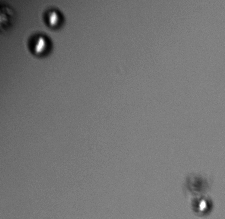Dead Cell: (187, 173, 209, 194), (1, 2, 16, 31)
Living Cell: (25, 31, 55, 58), (41, 5, 67, 31), (190, 194, 212, 215)
